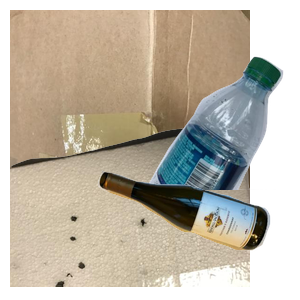cardboard: (10, 10, 250, 190)
glass: (95, 168, 300, 300)
plastic: (142, 54, 300, 234)
trash: (10, 120, 250, 300)
